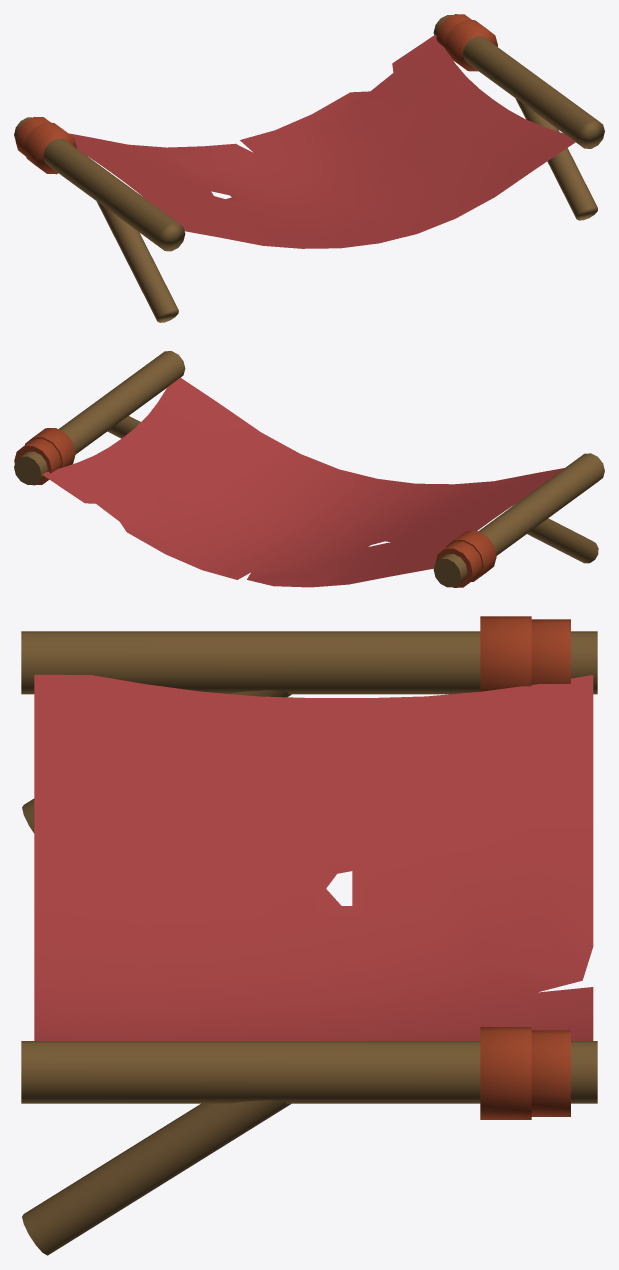
Rendered from cloth_01.fbx.
3 renders of one model, top to bottom at view 1: azimuth 30°, elevation 25°; view 2: azimuth 150°, elevation 25°; view 3: azimuth 270°, elevation 25°, orthographic. The views are drawn at different scales.
Parts seen in each view (by area): view 1: pPlane5; view 2: pPlane5; view 3: pPlane5.
Part boxes in pixels (left/top/right/bottom): pPlane5: left=14, top=14, right=604, bottom=322; pPlane5: left=14, top=351, right=604, bottom=587; pPlane5: left=21, top=616, right=597, bottom=1255.
Bounding box in the file's own units: 158 × 85.63 × 36.64.
